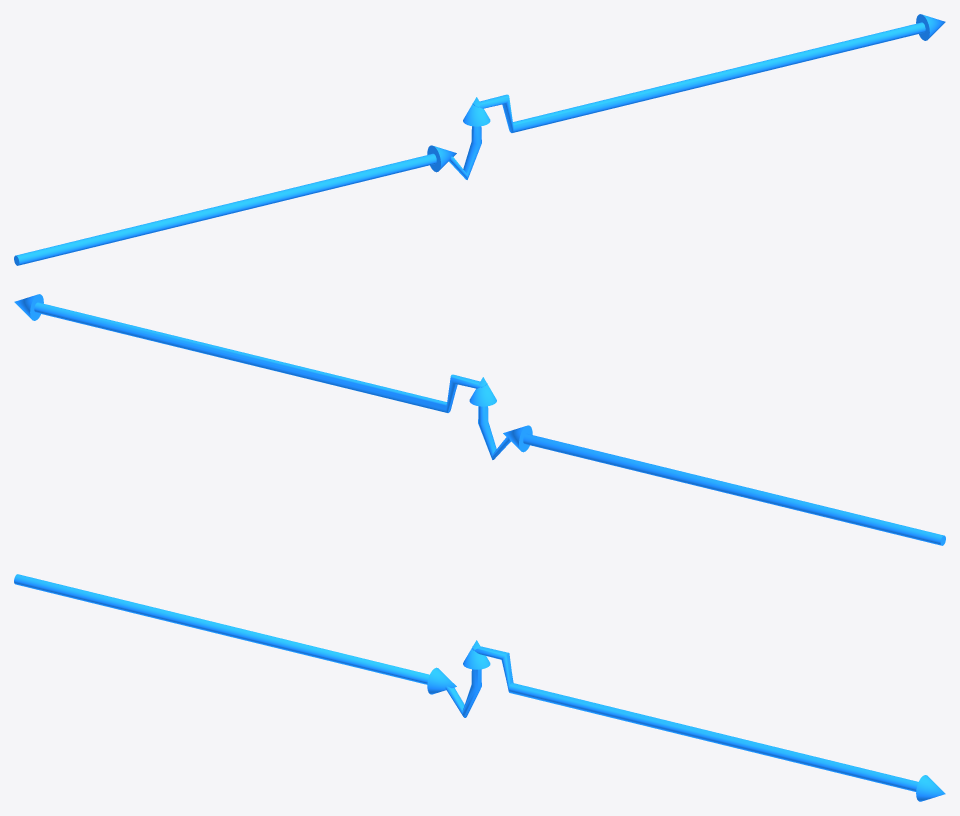
Rendered from pressure_sustaining_valve_flow.glb.
3 views of the same model, one above another, from view 1: azimuth 30°, elevation 25°; view 2: azimuth 150°, elevation 25°; view 3: azimuth 330°, elevation 25° (orthographic).
Parts seen in each view (by area): view 1: flow; view 2: flow; view 3: flow.
Boxes of the visible parts, <box> form: flow: <box>14,14,945,265</box>; flow: <box>14,294,945,545</box>; flow: <box>14,574,945,801</box>.
Size of the model in its own units: 1.62 by 0.1338 by 0.0416.
